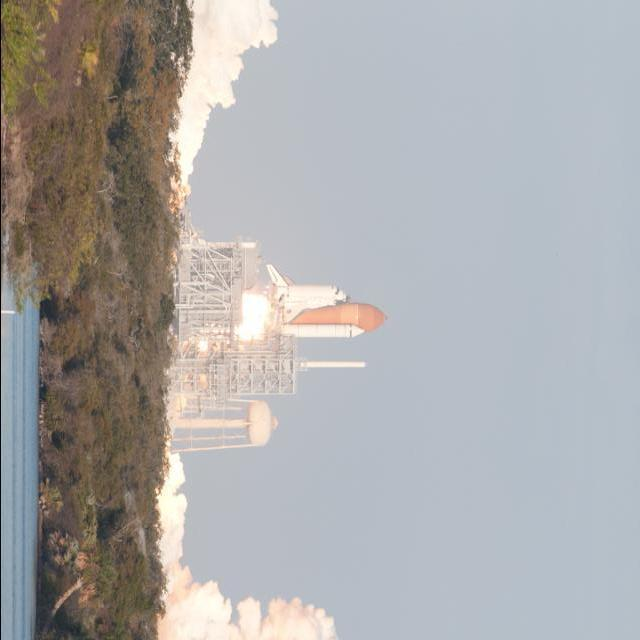missile: (265, 263, 390, 345)
